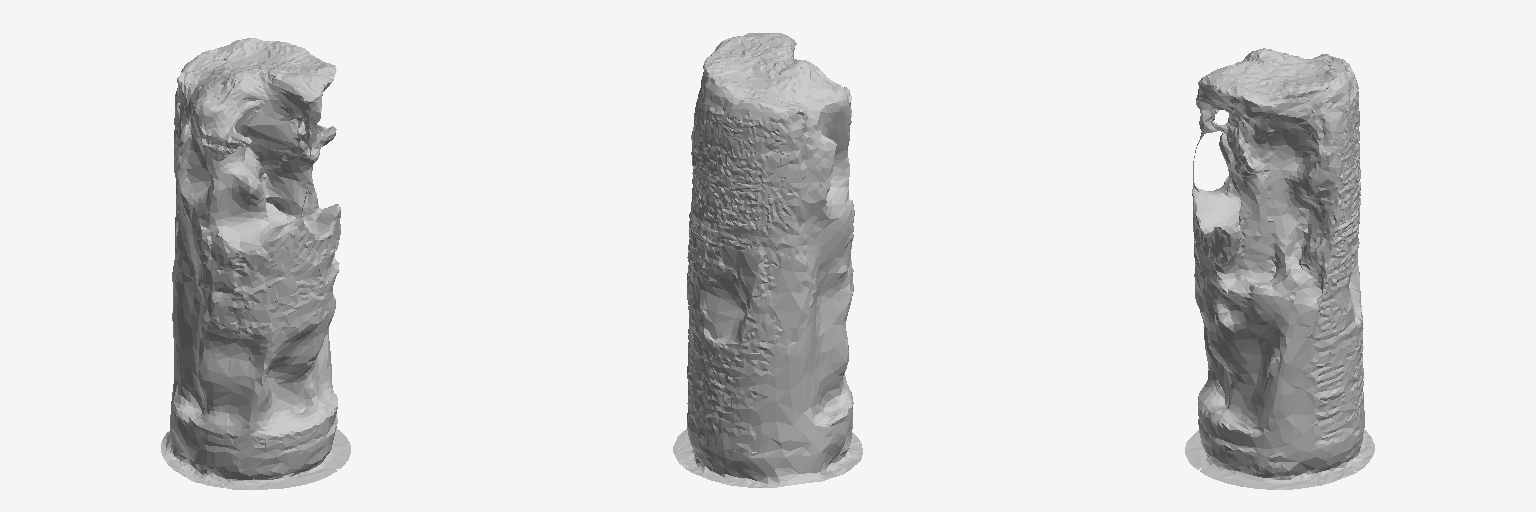
The model's file is - Adaptive_â€¢_58%_â€¢_4k.obj.
The picture shows the model from 3 angles: view 1: azimuth 30°, elevation 25°; view 2: azimuth 150°, elevation 25°; view 3: azimuth 270°, elevation 25°; orthographic projection.
Parts seen in each view (by area): view 1: Object; view 2: Object; view 3: Object.
Part boxes in pixels (left/top/right/bottom): Object: left=161, top=38, right=350, bottom=489; Object: left=673, top=33, right=862, bottom=487; Object: left=1185, top=48, right=1374, bottom=489.
Bounding box in the file's own units: 0.06 × 0.1362 × 0.06.